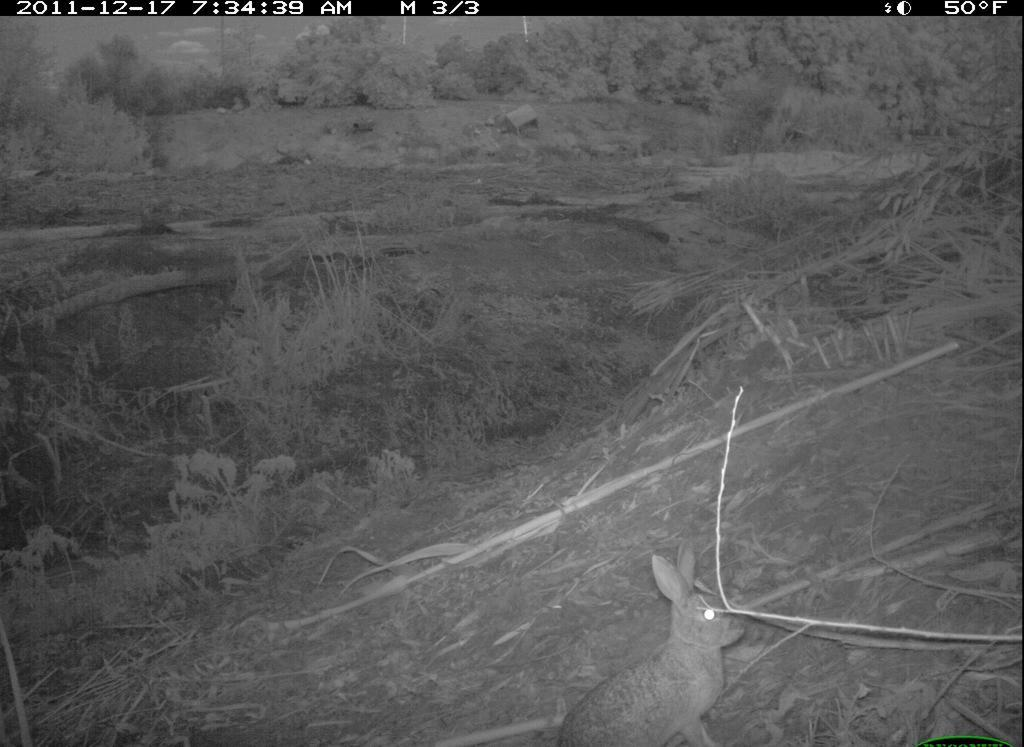rabbit: (546, 538, 760, 745)
